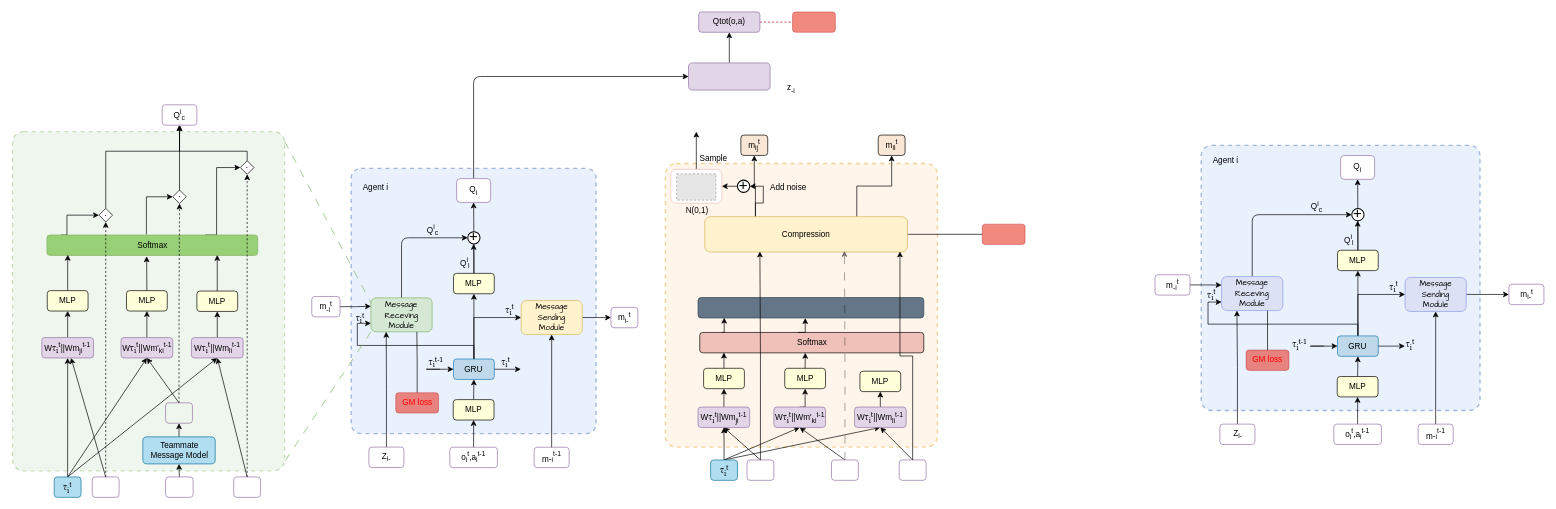
Image size: 1556x509. Some labels were removed from this diagram. Grey dashed boxes stand in for pictures. Here are the shapes that lost their labels. From the top down, the centre of each, then its label:
At point 813,21: "TD l oss".
At point 729,76: "Mixing Network".
At point 1003,234: "GIB l oss".
At point 810,307: "threshold".
At point 178,412: "m' ki t".
At point 105,486: "m ji t".
At point 179,486: "Z ki".
At point 247,486: "m li t".
At point 760,469: "m ji t-1".
At point 844,469: "m' ki t-1".
At point 912,469: "m li t-1".
